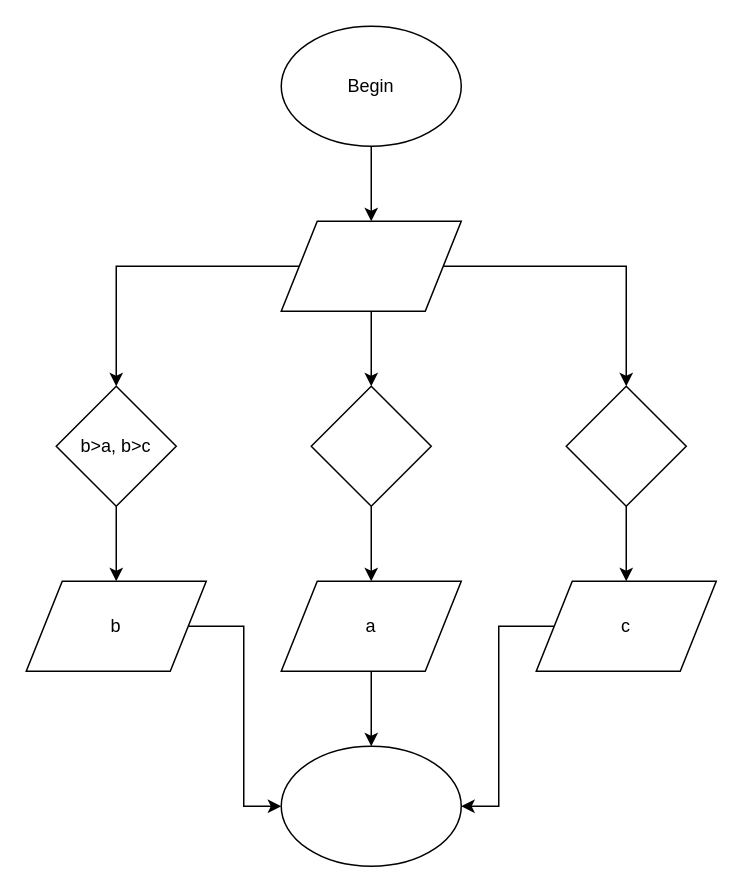
This 743x893 diagram has some shape labels left out. Each missing label, with the box of its shape:
a>b, a>c: (310, 385, 431, 506)
c>a, c>b: (565, 385, 686, 506)
Input a,b,c: (280, 220, 461, 311)
